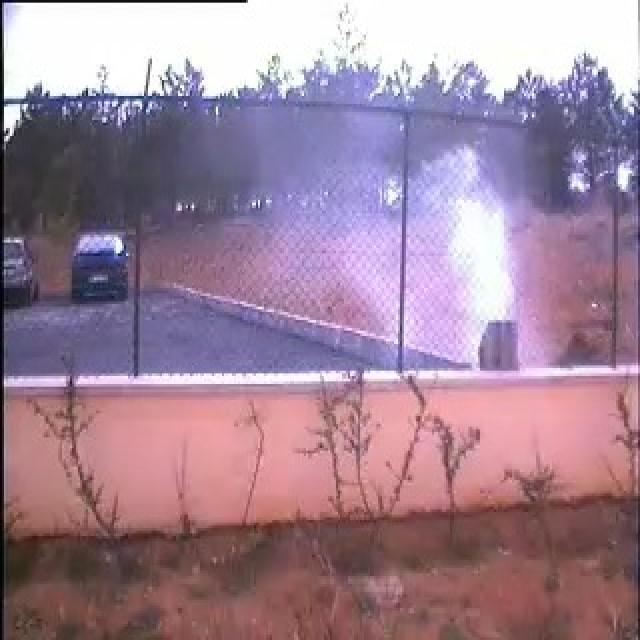Smoke: (395, 136, 528, 367)
